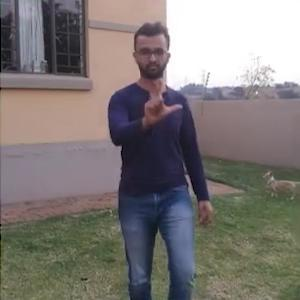land_hand: (139, 72, 184, 126)
